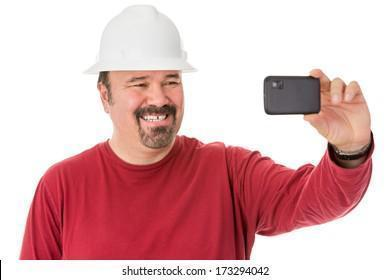helmet: (81, 5, 198, 75)
